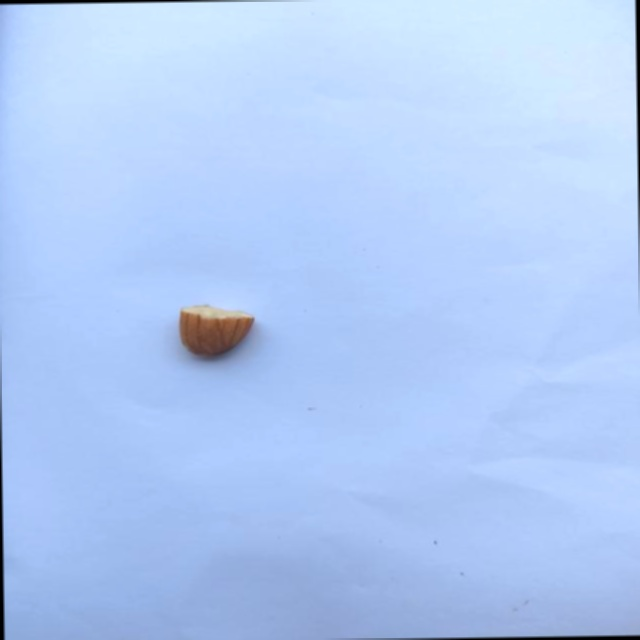grade4: (172, 300, 264, 364)
